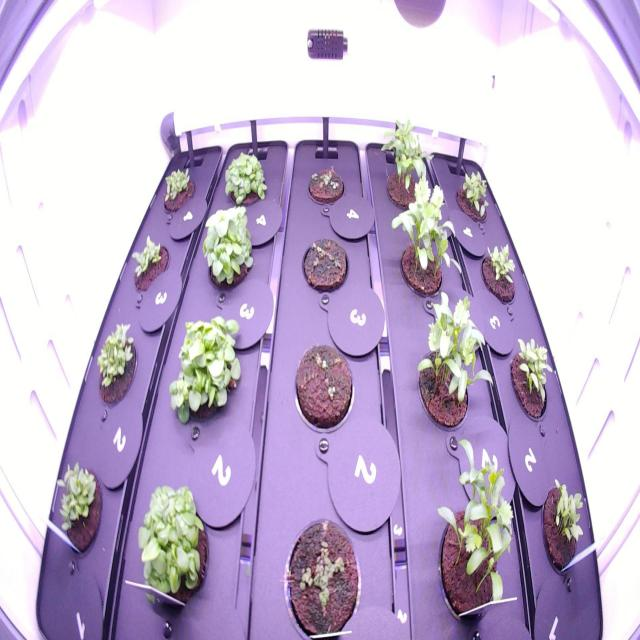germination: (278, 511, 365, 638), (290, 334, 358, 442), (48, 458, 108, 570), (535, 472, 591, 590), (503, 326, 561, 439), (92, 319, 144, 413), (295, 230, 354, 299), (476, 232, 522, 308), (128, 229, 175, 302), (450, 164, 494, 230), (156, 158, 199, 222), (301, 157, 348, 210)
